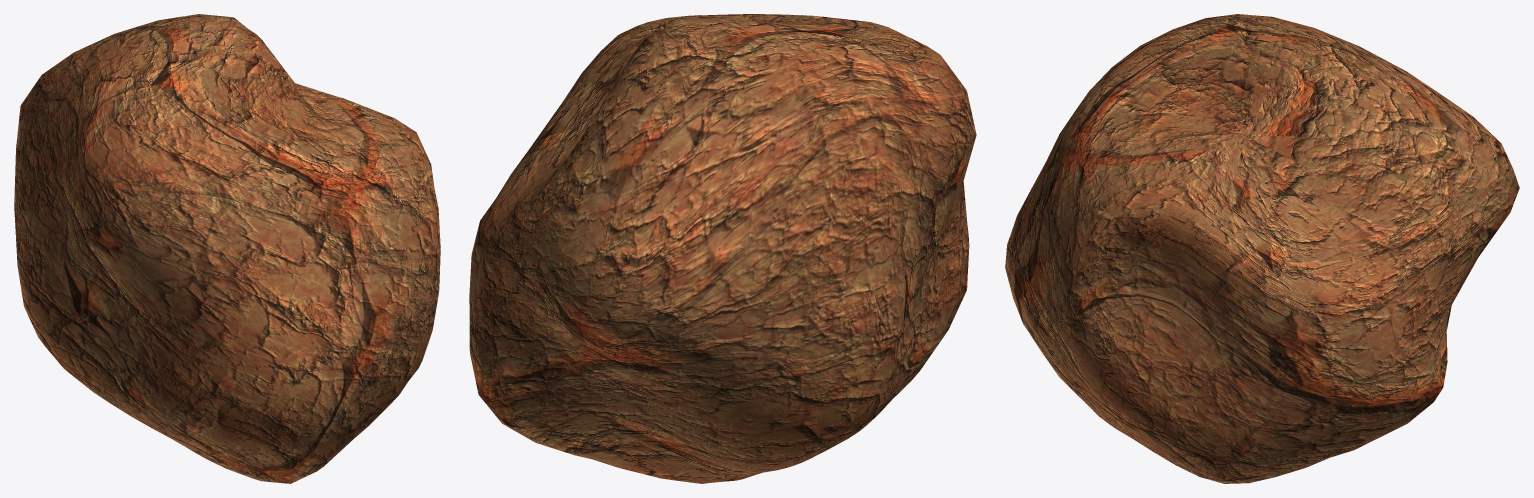
File: Pedra_M.FBX
3 views of the same model, side by side, from view 1: azimuth 30°, elevation 25°; view 2: azimuth 150°, elevation 25°; view 3: azimuth 270°, elevation 25° (orthographic). The views are drawn at different scales.
Parts seen in each view (by area): view 1: Sphere001; view 2: Sphere001; view 3: Sphere001.
Part boxes in pixels (x1,y1,x2,y2): Sphere001: (14,14,440,483); Sphere001: (469,14,976,483); Sphere001: (1005,14,1519,483).
Size of the model in its own units: 17.38 by 19.84 by 23.25.
